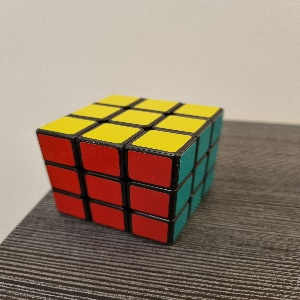cube: (37, 93, 223, 245)
